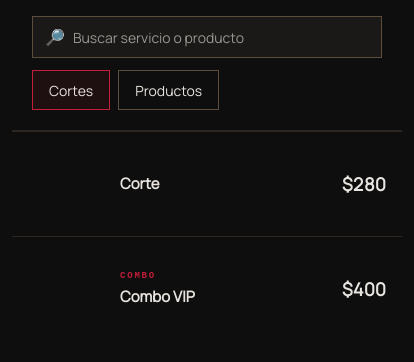
Scenario: CheckoutPage (integration) › combo: tap de combo excluido para el atendiendo NO deja línea (se elimina) + toast
Click the text "Combo VIP" at coordinates (157, 296), box [120,286,195,306]
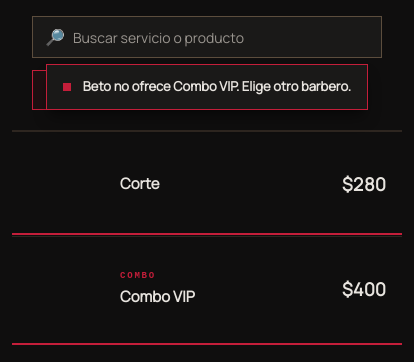
Expected: the text "Beto no ofrece Combo VIP. Elige otro barbero." is shown, [83,77,351,96]
